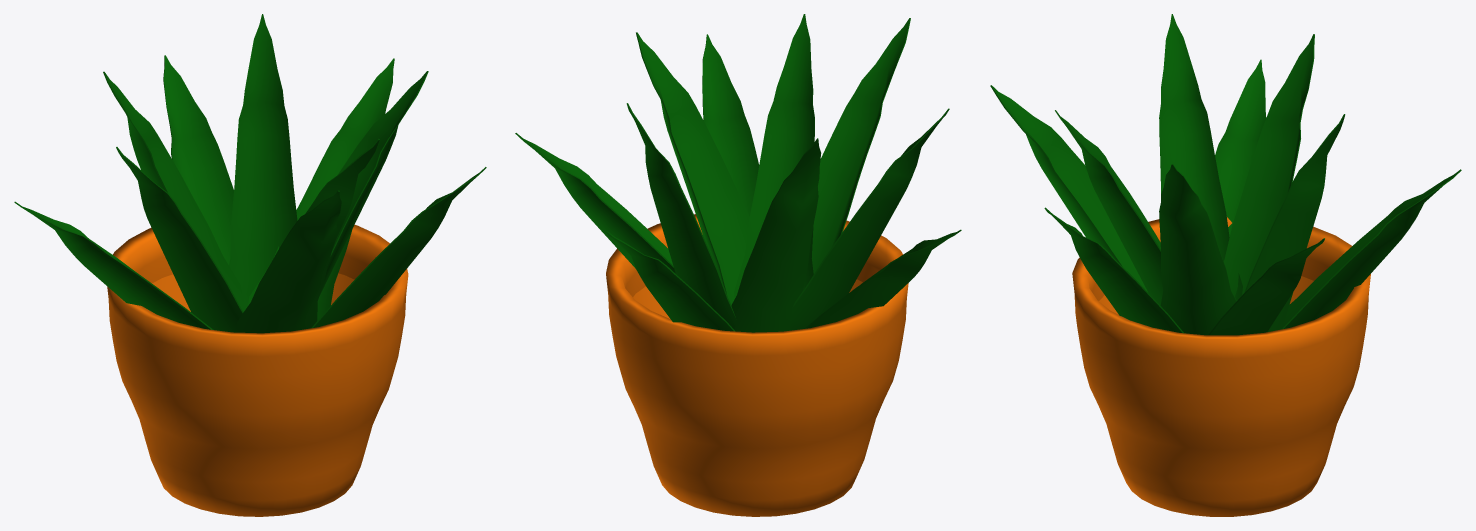
File: outra_planta.fbx
3 renders of one model, left to right at view 1: azimuth 30°, elevation 25°; view 2: azimuth 150°, elevation 25°; view 3: azimuth 270°, elevation 25°, orthographic.
Visible parts, largest first — view 1: coisas:vaso_com_lavanda:planta_1___suculenta_zebra:revolvedS, coisas:vaso_com_lavanda:planta_1___suculenta_zebra:pCube2, coisas:vaso_com_lavanda:planta_1___suculenta_zebra:pCube10, coisas:vaso_com_lavanda:planta_1___suculenta_zebra:pCube4, coisas:vaso_com_lavanda:planta_1___suculenta_zebra:pCube8, coisas:vaso_com_lavanda:planta_1___suculenta_zebra:pCube7, coisas:vaso_com_lavanda:planta_1___suculenta_zebra:pCube5, coisas:vaso_com_lavanda:planta_1___suculenta_zebra:pCube9, coisas:vaso_com_lavanda:planta_1___suculenta_zebra:pCube6, coisas:vaso_com_lavanda:planta_1___suculenta_zebra:pCube1, coisas:vaso_com_lavanda:planta_1___suculenta_zebra:pCube3; view 2: coisas:vaso_com_lavanda:planta_1___suculenta_zebra:revolvedS, coisas:vaso_com_lavanda:planta_1___suculenta_zebra:pCube5, coisas:vaso_com_lavanda:planta_1___suculenta_zebra:pCube1, coisas:vaso_com_lavanda:planta_1___suculenta_zebra:pCube10, coisas:vaso_com_lavanda:planta_1___suculenta_zebra:pCube3, coisas:vaso_com_lavanda:planta_1___suculenta_zebra:pCube4, coisas:vaso_com_lavanda:planta_1___suculenta_zebra:pCube2, coisas:vaso_com_lavanda:planta_1___suculenta_zebra:pCube7, coisas:vaso_com_lavanda:planta_1___suculenta_zebra:pCube6, coisas:vaso_com_lavanda:planta_1___suculenta_zebra:pCube8, coisas:vaso_com_lavanda:planta_1___suculenta_zebra:pCube9; view 3: coisas:vaso_com_lavanda:planta_1___suculenta_zebra:revolvedS, coisas:vaso_com_lavanda:planta_1___suculenta_zebra:pCube5, coisas:vaso_com_lavanda:planta_1___suculenta_zebra:pCube1, coisas:vaso_com_lavanda:planta_1___suculenta_zebra:pCube4, coisas:vaso_com_lavanda:planta_1___suculenta_zebra:pCube10, coisas:vaso_com_lavanda:planta_1___suculenta_zebra:pCube8, coisas:vaso_com_lavanda:planta_1___suculenta_zebra:pCube3, coisas:vaso_com_lavanda:planta_1___suculenta_zebra:pCube2, coisas:vaso_com_lavanda:planta_1___suculenta_zebra:pCube9, coisas:vaso_com_lavanda:planta_1___suculenta_zebra:pCube7, coisas:vaso_com_lavanda:planta_1___suculenta_zebra:pCube6.
Boxes of the visible parts, x1,y1,x2,y2 form: coisas:vaso_com_lavanda:planta_1___suculenta_zebra:revolvedS: [107, 224, 408, 516]; coisas:vaso_com_lavanda:planta_1___suculenta_zebra:pCube2: [229, 14, 297, 310]; coisas:vaso_com_lavanda:planta_1___suculenta_zebra:pCube10: [237, 190, 341, 333]; coisas:vaso_com_lavanda:planta_1___suculenta_zebra:pCube4: [116, 147, 243, 332]; coisas:vaso_com_lavanda:planta_1___suculenta_zebra:pCube8: [163, 55, 233, 264]; coisas:vaso_com_lavanda:planta_1___suculenta_zebra:pCube7: [311, 167, 486, 328]; coisas:vaso_com_lavanda:planta_1___suculenta_zebra:pCube5: [103, 71, 244, 311]; coisas:vaso_com_lavanda:planta_1___suculenta_zebra:pCube9: [14, 201, 213, 329]; coisas:vaso_com_lavanda:planta_1___suculenta_zebra:pCube6: [248, 58, 394, 320]; coisas:vaso_com_lavanda:planta_1___suculenta_zebra:pCube1: [319, 71, 428, 295]; coisas:vaso_com_lavanda:planta_1___suculenta_zebra:pCube3: [305, 139, 379, 238]; coisas:vaso_com_lavanda:planta_1___suculenta_zebra:revolvedS: [606, 214, 908, 516]; coisas:vaso_com_lavanda:planta_1___suculenta_zebra:pCube5: [731, 138, 821, 332]; coisas:vaso_com_lavanda:planta_1___suculenta_zebra:pCube1: [636, 32, 749, 304]; coisas:vaso_com_lavanda:planta_1___suculenta_zebra:pCube10: [812, 18, 910, 273]; coisas:vaso_com_lavanda:planta_1___suculenta_zebra:pCube3: [734, 14, 814, 298]; coisas:vaso_com_lavanda:planta_1___suculenta_zebra:pCube4: [790, 108, 949, 330]; coisas:vaso_com_lavanda:planta_1___suculenta_zebra:pCube2: [626, 103, 736, 331]; coisas:vaso_com_lavanda:planta_1___suculenta_zebra:pCube7: [702, 34, 759, 216]; coisas:vaso_com_lavanda:planta_1___suculenta_zebra:pCube6: [515, 133, 675, 273]; coisas:vaso_com_lavanda:planta_1___suculenta_zebra:pCube8: [606, 231, 735, 331]; coisas:vaso_com_lavanda:planta_1___suculenta_zebra:pCube9: [804, 229, 961, 328]; coisas:vaso_com_lavanda:planta_1___suculenta_zebra:revolvedS: [1072, 217, 1370, 516]; coisas:vaso_com_lavanda:planta_1___suculenta_zebra:pCube5: [1223, 34, 1314, 296]; coisas:vaso_com_lavanda:planta_1___suculenta_zebra:pCube1: [1159, 163, 1236, 335]; coisas:vaso_com_lavanda:planta_1___suculenta_zebra:pCube4: [1159, 14, 1242, 300]; coisas:vaso_com_lavanda:planta_1___suculenta_zebra:pCube10: [990, 85, 1147, 291]; coisas:vaso_com_lavanda:planta_1___suculenta_zebra:pCube8: [1282, 169, 1461, 329]; coisas:vaso_com_lavanda:planta_1___suculenta_zebra:pCube3: [1055, 110, 1162, 305]; coisas:vaso_com_lavanda:planta_1___suculenta_zebra:pCube2: [1244, 114, 1345, 331]; coisas:vaso_com_lavanda:planta_1___suculenta_zebra:pCube9: [1215, 59, 1266, 236]; coisas:vaso_com_lavanda:planta_1___suculenta_zebra:pCube7: [1044, 207, 1183, 333]; coisas:vaso_com_lavanda:planta_1___suculenta_zebra:pCube6: [1208, 238, 1324, 335].
Size of the model in its own units: 1916 by 1799 by 1919.
